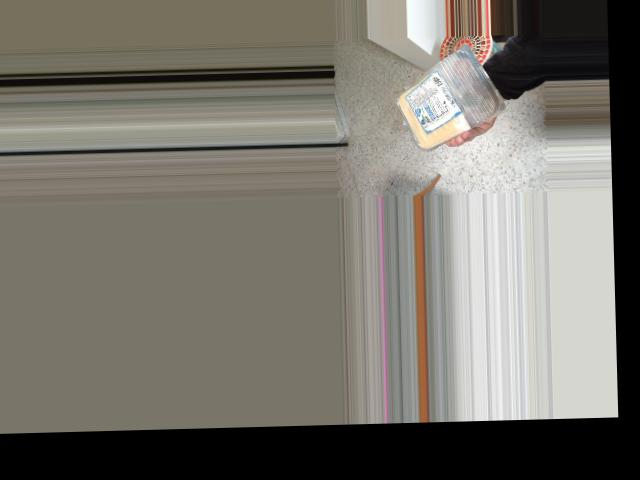cheese: (387, 47, 499, 140)
